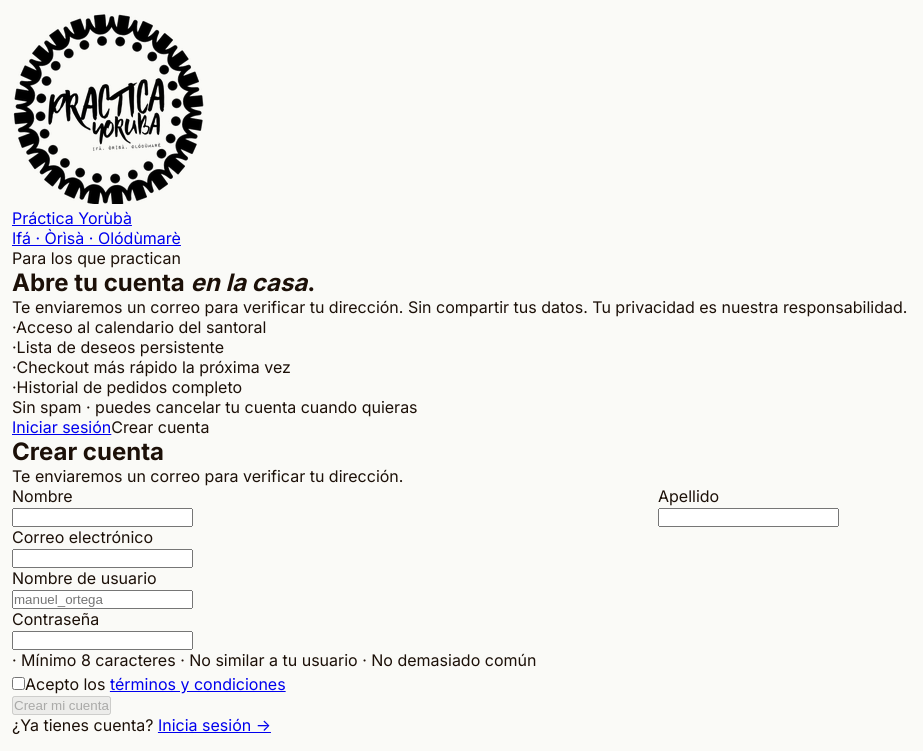
Test: RegisterPage › el checkbox de terminos habilita el boton de submit (UC-AUTH-01)
Expected: the button "Crear mi cuenta" is disabled, [12, 696, 111, 715]
# Al marcar el checkbox: habilitado.
Click the checkbox at (18, 684), box [12, 677, 25, 690]
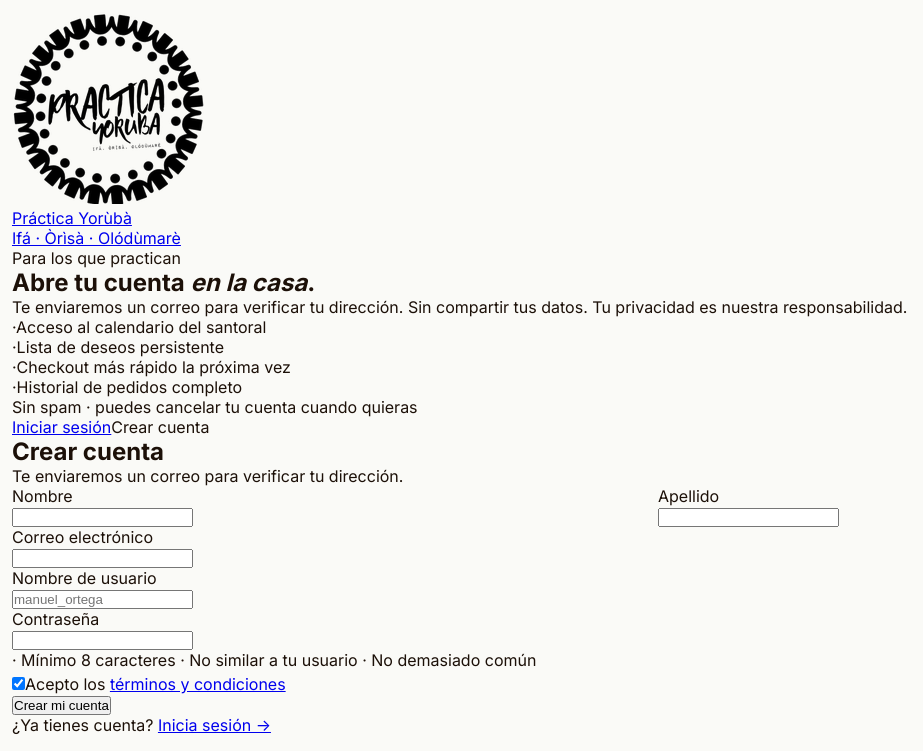
Now the checkbox is checked
Now the button "Crear mi cuenta" is enabled, box [12, 696, 111, 715]
# Al desmarcar: vuelve a deshabilitarse.
Click the checkbox at (18, 684), box [12, 677, 25, 690]
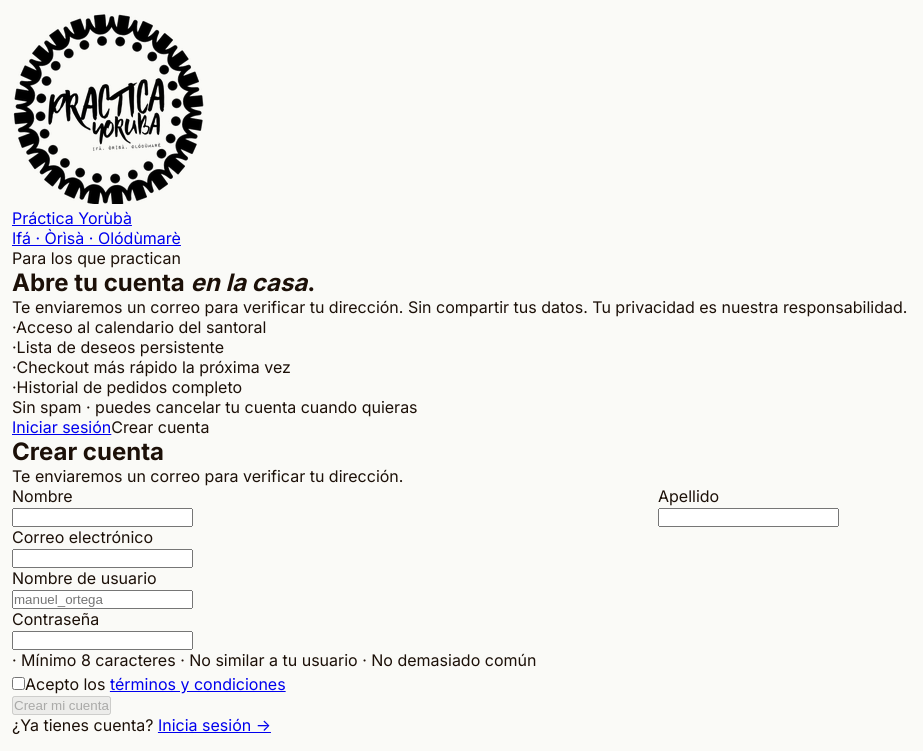
Now the checkbox is not checked, box [12, 677, 25, 690]
Now the button "Crear mi cuenta" is disabled, box [12, 696, 111, 715]
